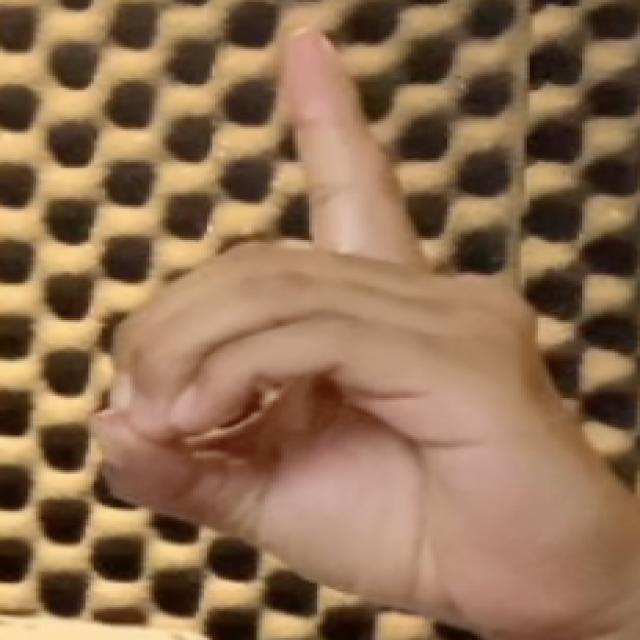D: (68, 17, 623, 620)
